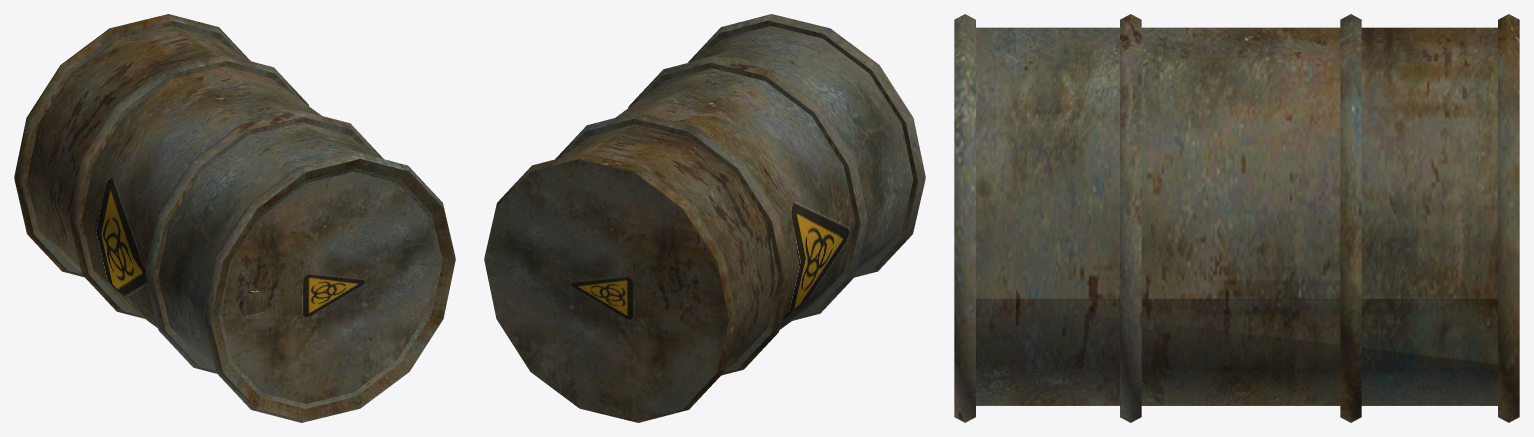
Rendered from barrel_2.fbx.
3 renders of one model, left to right at view 1: azimuth 30°, elevation 25°; view 2: azimuth 150°, elevation 25°; view 3: azimuth 270°, elevation 25°, orthographic. The views are drawn at different scales.
Parts seen in each view (by area): view 1: Cylinder01; view 2: Cylinder01; view 3: Cylinder01.
Part boxes in pixels (x1,y1,x2,y2): Cylinder01: (14, 14, 455, 422); Cylinder01: (484, 14, 925, 422); Cylinder01: (954, 14, 1519, 422).
Bounding box in the file's own units: 0.6768 × 0.6598 × 0.9146.
